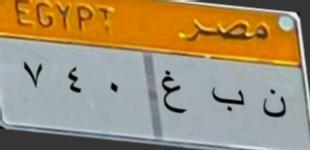0: (108, 76, 120, 100)
4: (67, 62, 85, 97)
7: (24, 59, 46, 91)
baa: (210, 85, 246, 115)
ghayn: (158, 68, 186, 120)
noon: (259, 81, 288, 125)
